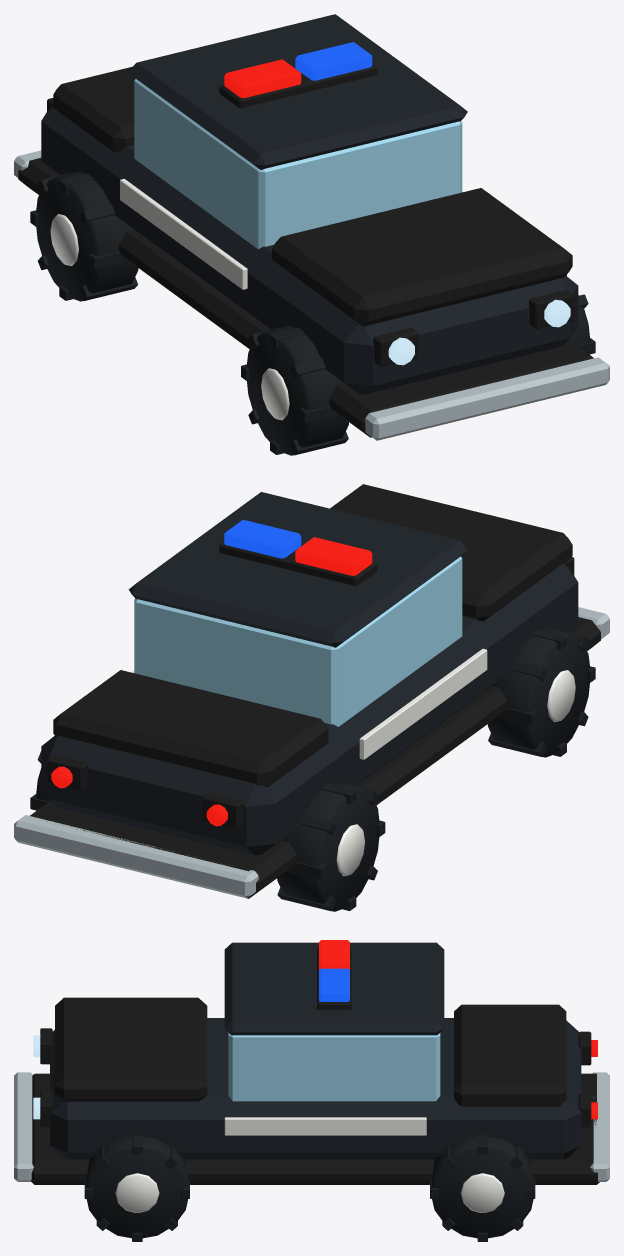
Rendered from FTF_Vehicle_PoliceCar_Black_RedBlueLights_4_6m.glb.
3 renders of one model, top to bottom at view 1: azimuth 30°, elevation 25°; view 2: azimuth 150°, elevation 25°; view 3: azimuth 270°, elevation 25°, orthographic. The views are drawn at different scales.
Parts seen in each view (by area): view 1: FTF_Vehicle_PoliceCar_Black_RedBlueLights_4_6m_Static, Wheel_FL_Mesh, Wheel_RL_Mesh, Wheel_FR_Mesh; view 2: FTF_Vehicle_PoliceCar_Black_RedBlueLights_4_6m_Static, Wheel_RL_Mesh, Wheel_FL_Mesh; view 3: FTF_Vehicle_PoliceCar_Black_RedBlueLights_4_6m_Static, Wheel_RR_Mesh, Wheel_FR_Mesh.
Part boxes in pixels (left/top/right/bottom): FTF_Vehicle_PoliceCar_Black_RedBlueLights_4_6m_Static: left=14, top=14, right=609, bottom=440; Wheel_FL_Mesh: left=241, top=325, right=348, bottom=455; Wheel_RL_Mesh: left=30, top=171, right=138, bottom=301; Wheel_FR_Mesh: left=566, top=275, right=595, bottom=354; FTF_Vehicle_PoliceCar_Black_RedBlueLights_4_6m_Static: left=14, top=484, right=609, bottom=898; Wheel_RL_Mesh: left=277, top=781, right=385, bottom=911; Wheel_FL_Mesh: left=487, top=627, right=595, bottom=757; FTF_Vehicle_PoliceCar_Black_RedBlueLights_4_6m_Static: left=14, top=940, right=609, bottom=1184; Wheel_RR_Mesh: left=430, top=1135, right=535, bottom=1241; Wheel_FR_Mesh: left=84, top=1135, right=189, bottom=1241.
Size of the model in its own units: 2.21 by 1.93 by 4.78.
